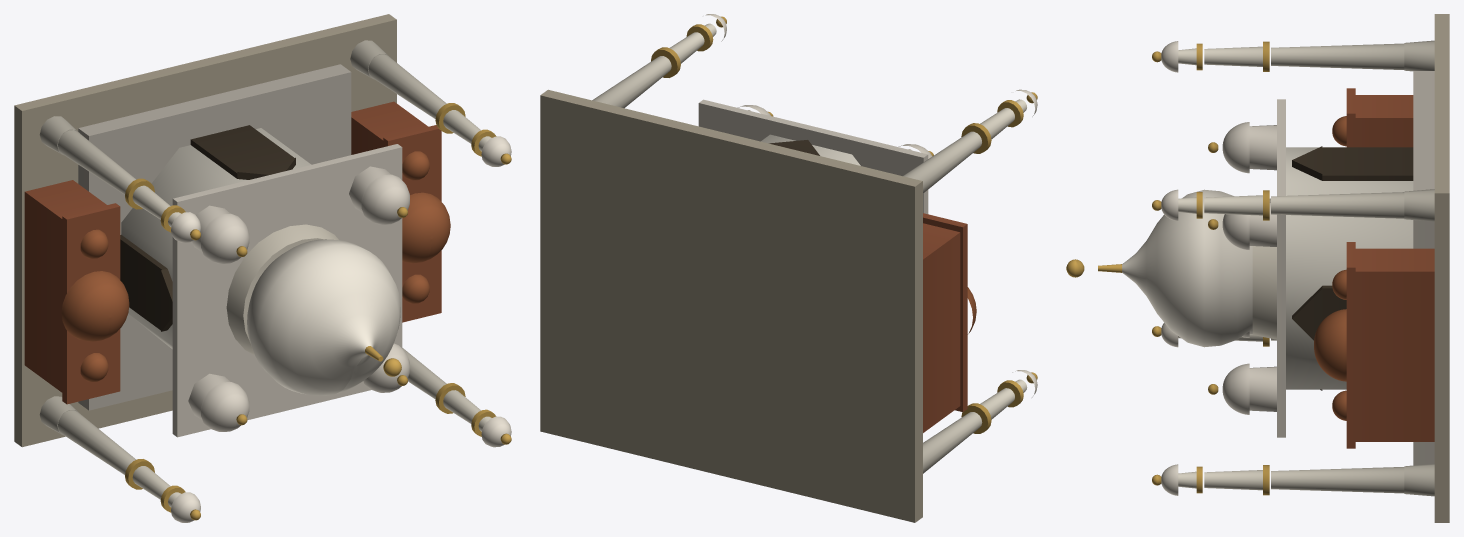
The model's file is taj-mahal.glb.
3 views of the same model, side by side, from view 1: azimuth 30°, elevation 25°; view 2: azimuth 150°, elevation 25°; view 3: azimuth 270°, elevation 25° (orthographic).
Parts seen in each view (by area): view 1: part-plinth, part-terrace, part-side, part-dome, part-minaret, part-chhatri, part-sideDome, part-iwan, part-body, part-gold, part-drum; view 2: part-terrace, part-side, part-minaret, part-plinth, part-gold, part-chhatri, part-body; view 3: part-side, part-minaret, part-dome, part-body, part-terrace, part-chhatri, part-plinth, part-iwan, part-sideDome, part-gold, part-drum.
Part boxes in pixels (box(x1,y1,x2,y2)): part-plinth: box(78, 64, 402, 437); part-terrace: box(14, 14, 396, 447); part-side: box(24, 101, 441, 404); part-dome: box(247, 239, 400, 395); part-minaret: box(39, 40, 491, 507); part-chhatri: box(171, 136, 511, 522); part-sideDome: box(61, 151, 450, 381); part-iwan: box(120, 125, 295, 331); part-body: box(121, 128, 311, 349); part-gold: box(125, 103, 511, 520); part-drum: box(226, 224, 338, 355); part-terrace: box(540, 89, 922, 522); part-side: box(923, 213, 967, 432); part-minaret: box(592, 23, 1027, 473); part-plinth: box(698, 99, 928, 214); part-gold: box(651, 16, 1037, 433); part-chhatri: box(705, 14, 1037, 397); part-body: box(761, 134, 860, 165); part-side: box(1346, 88, 1434, 448); part-minaret: box(1178, 40, 1434, 496); part-dome: box(1122, 189, 1252, 347); part-body: box(1286, 147, 1413, 389); part-terrace: box(1434, 14, 1449, 522); part-chhatri: box(1161, 41, 1276, 495); part-plinth: box(1277, 71, 1434, 465); part-iwan: box(1292, 146, 1413, 390); part-sideDome: box(1314, 116, 1346, 420); part-gold: box(1066, 41, 1269, 495); part-drum: box(1252, 198, 1276, 339).
Bounding box in the file's own units: 1.44 × 1.2 × 1.26.
